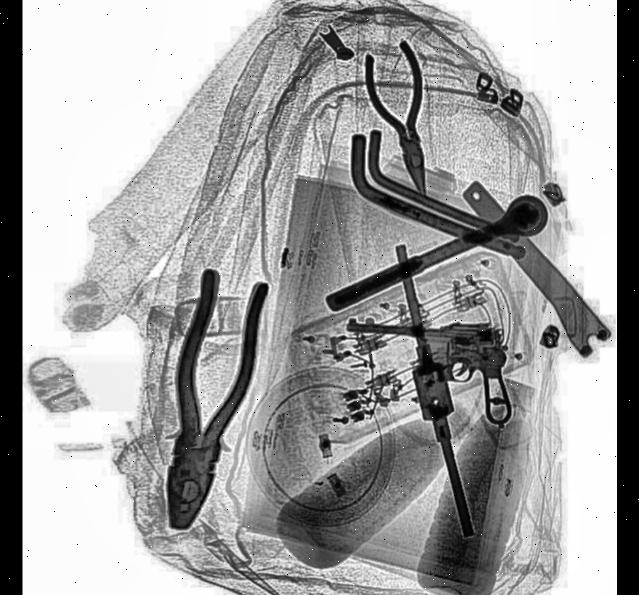Gun: (340, 312, 514, 422)
Pliers: (142, 260, 272, 540), (356, 35, 448, 201)
